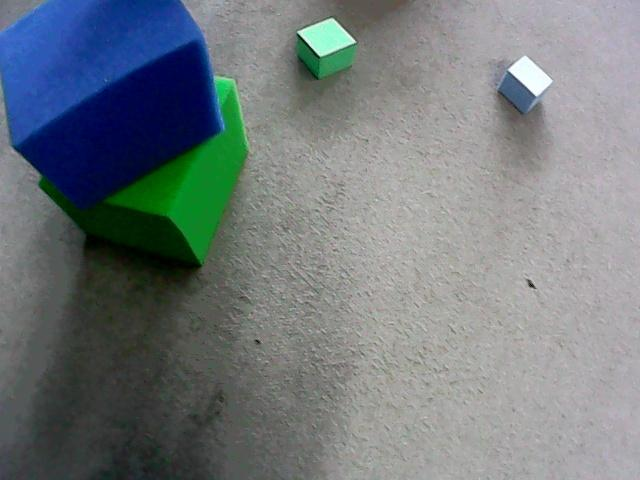blue_block: (0, 0, 223, 208), (498, 56, 551, 113), (499, 73, 535, 112)
